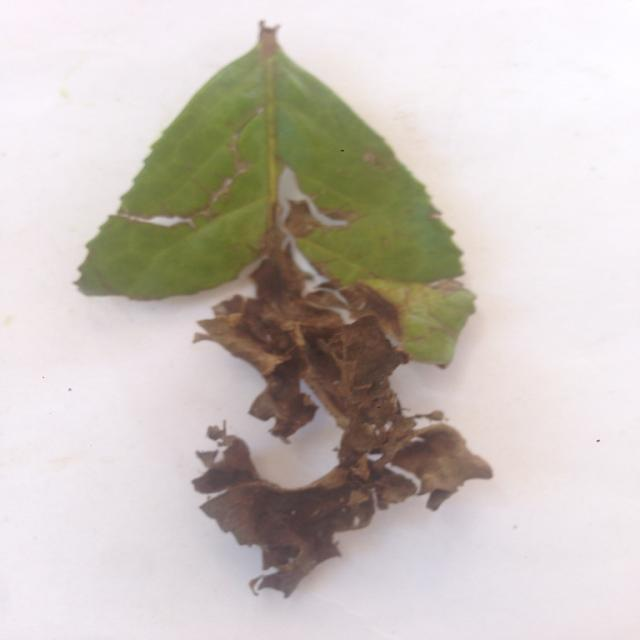Brown Blight: (87, 21, 502, 602)
